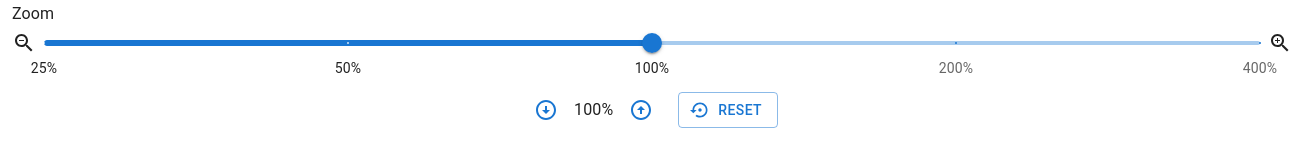
it: ZoomMenuItem › increases zoom to 1.10 when zoom in button is clicked twice
Click the button named "Zoom in" at (641,110), box [621,90,661,130]
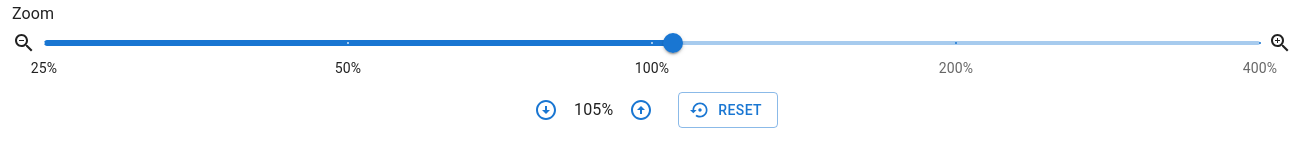
Click the button named "Zoom in" at (641,110), box [621,90,661,130]
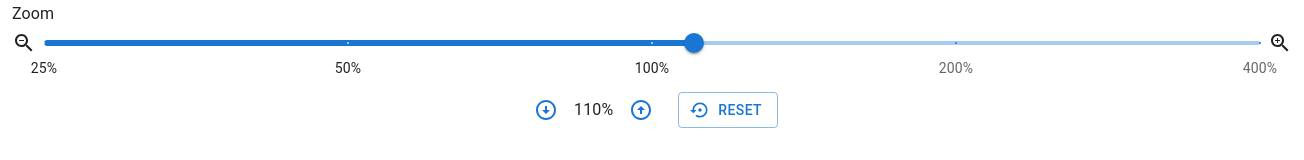
expect the text named "Zoom amount" reads "110%": met, box [574,100,613,119]
